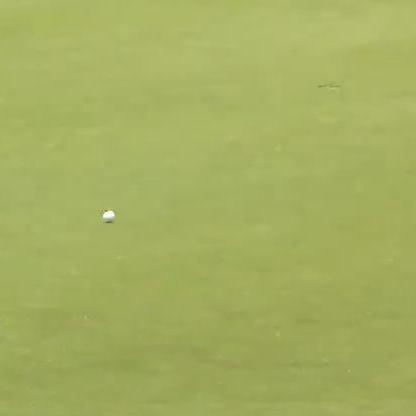golfball: (99, 208, 115, 224)
